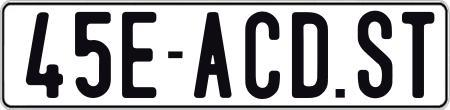4: (25, 10, 67, 102)
5: (74, 9, 116, 98)
A: (192, 10, 229, 101)
C: (244, 9, 283, 97)
D: (292, 10, 329, 100)
E: (119, 10, 155, 99)
S: (356, 8, 390, 99)
T: (402, 11, 435, 103)
